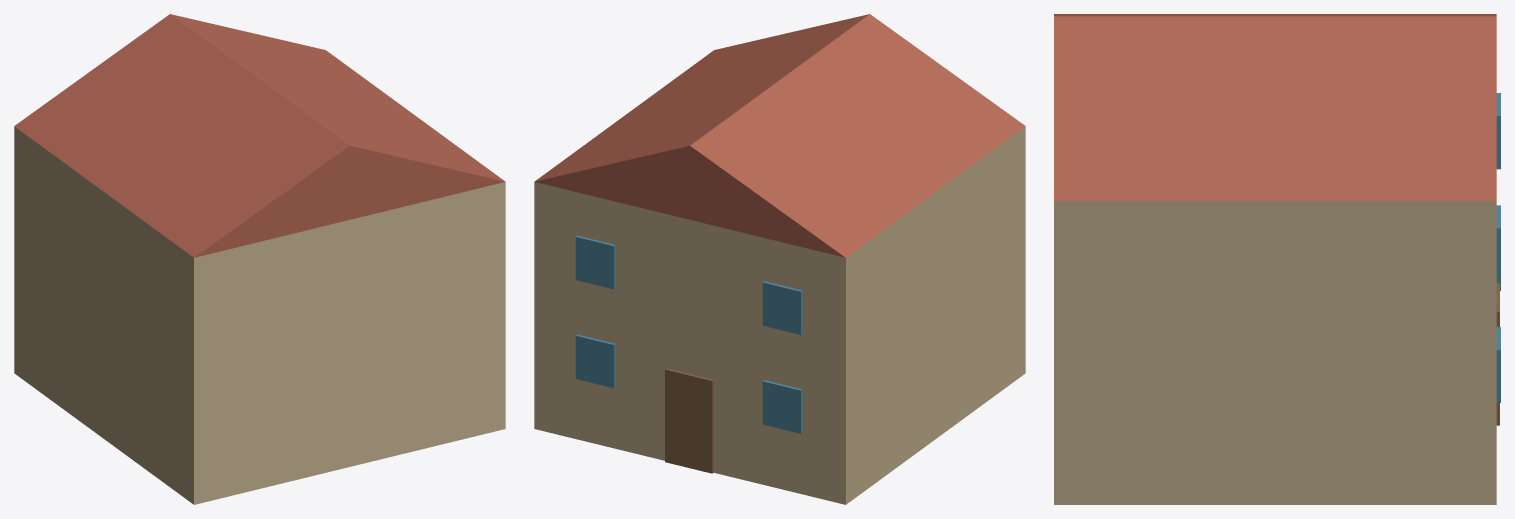
Rendered from bank.glb.
The picture shows the model from 3 angles, left to right: view 1: azimuth 30°, elevation 25°; view 2: azimuth 150°, elevation 25°; view 3: azimuth 270°, elevation 25°; orthographic projection. The views are drawn at different scales.
Size of the model in its own units: 5.28 by 5.2 by 5.33.
